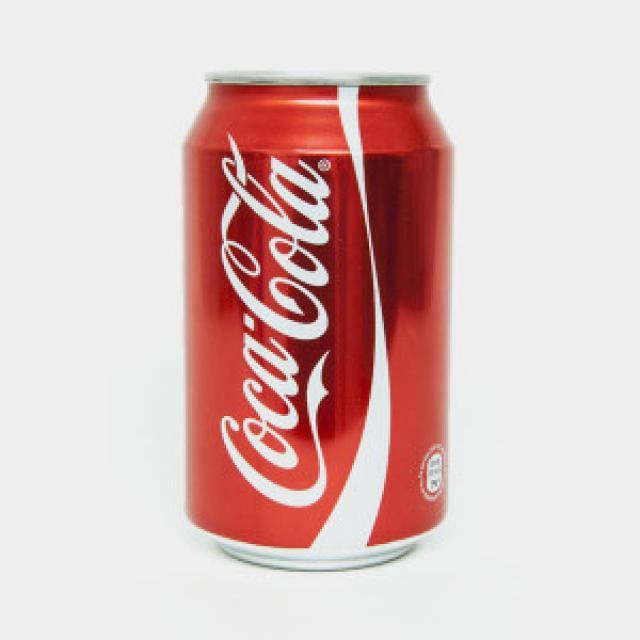Metal: (185, 75, 452, 564)
